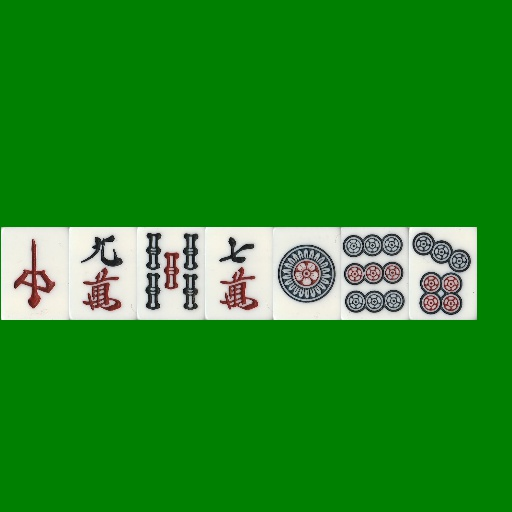1p: (273, 227, 341, 320)
5s: (137, 227, 205, 320)
7m: (205, 227, 273, 320)
7p: (409, 227, 477, 320)
9m: (69, 227, 137, 320)
9p: (341, 227, 409, 320)
tyun: (1, 227, 69, 320)
